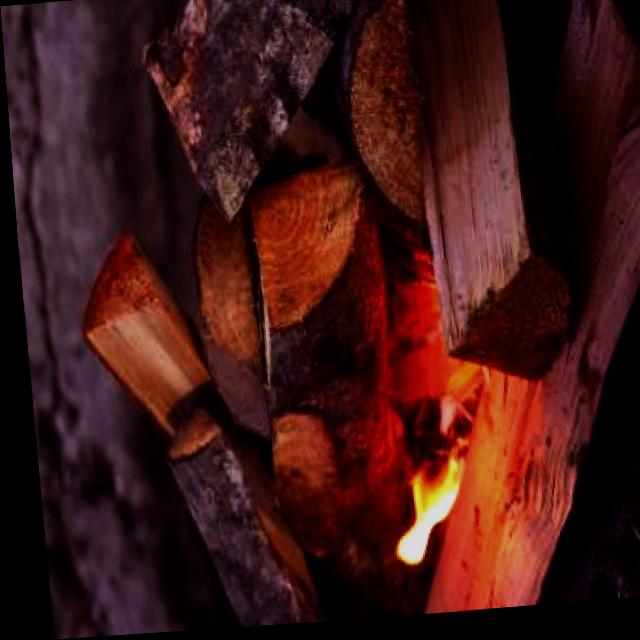Fire: (353, 409, 481, 607)
